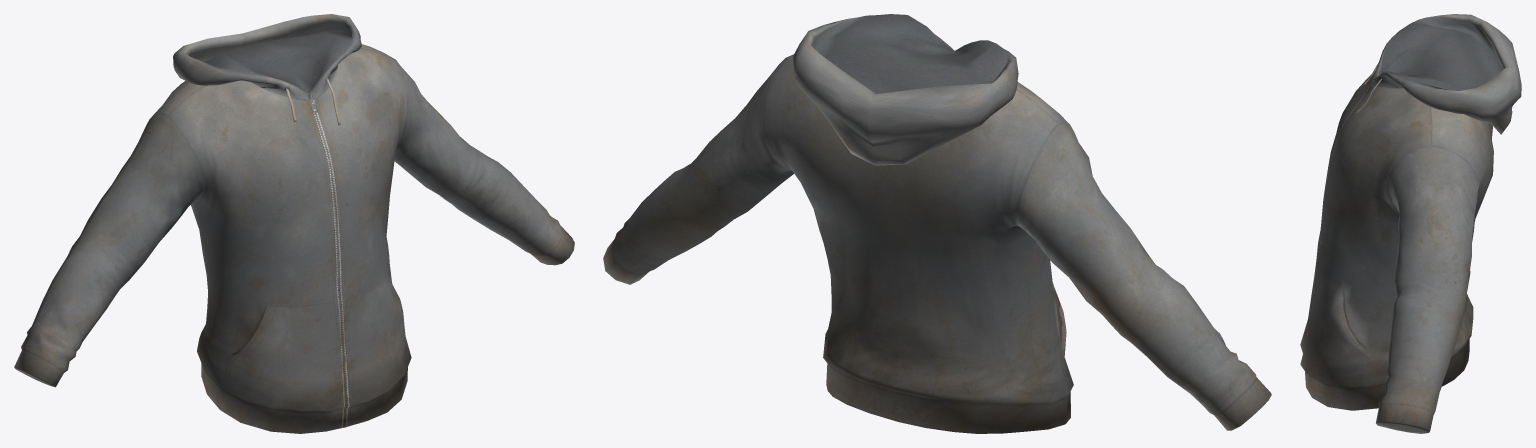
Rendered from SurvivorMale_Chest_Hoodie_Down_LOD0.glb.
The picture shows the model from 3 angles, left to right: view 1: azimuth 30°, elevation 25°; view 2: azimuth 150°, elevation 25°; view 3: azimuth 270°, elevation 25°; orthographic projection. The views are drawn at different scales.
Visible parts, largest first — view 1: Hoodie; view 2: Hoodie; view 3: Hoodie.
Boxes of the visible parts, x1,y1,x2,y2 form: Hoodie: [14, 14, 574, 433]; Hoodie: [603, 14, 1271, 433]; Hoodie: [1300, 14, 1521, 433].
Bounding box in the file's own units: 1.13 × 0.6562 × 0.4033.
1 material, 1 textured.
